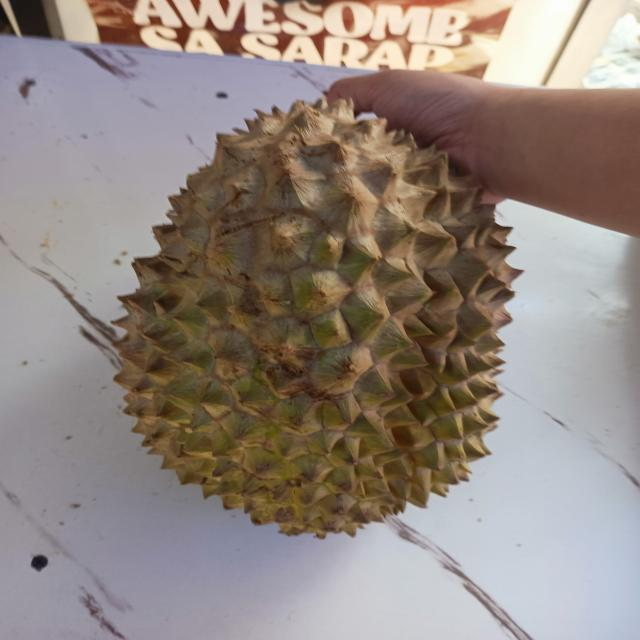mature: (114, 98, 519, 539)
